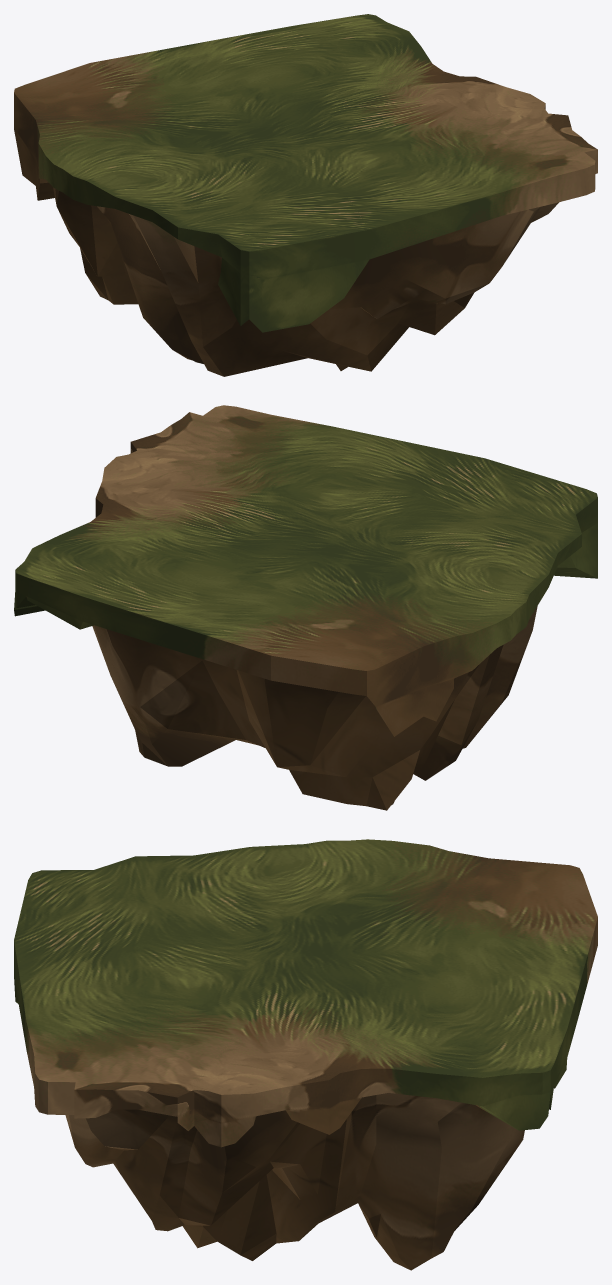
File: wyspa_mala.obj
The picture shows the model from 3 angles, top to bottom: view 1: azimuth 30°, elevation 25°; view 2: azimuth 150°, elevation 25°; view 3: azimuth 270°, elevation 25°; orthographic projection. The views are drawn at different scales.
Parts seen in each view (by area): view 1: Landscape.011; view 2: Landscape.011; view 3: Landscape.011.
Part boxes in pixels (x1,y1,x2,y2): Landscape.011: [14, 14, 597, 376]; Landscape.011: [14, 405, 597, 810]; Landscape.011: [14, 839, 597, 1270].
Bounding box in the file's own units: 56.15 × 28.4 × 53.68.
Materials: 1 (1 with a texture image).
